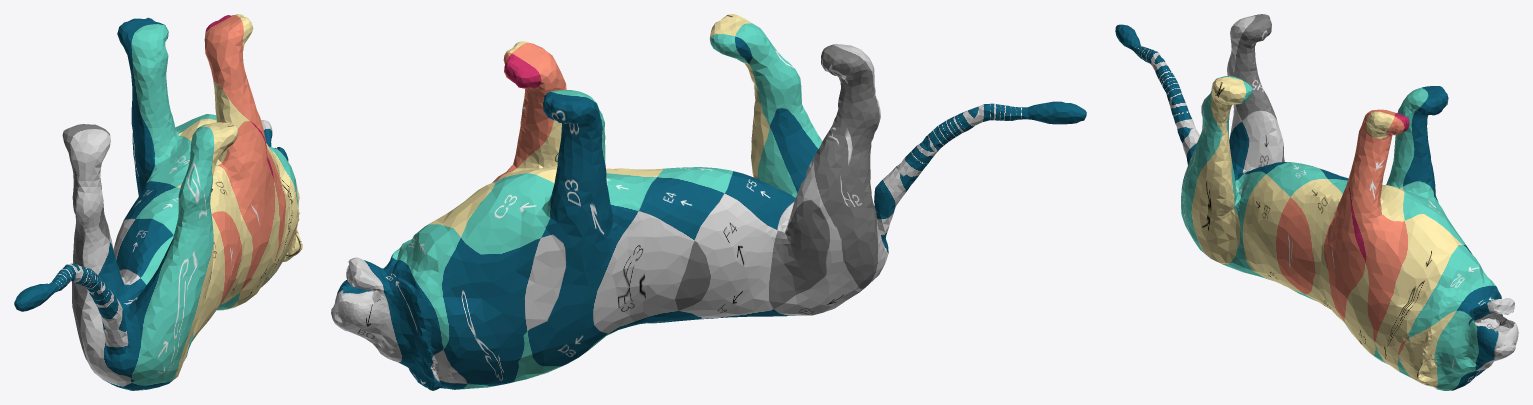
The model's file is cow_04-lion_05.obj.
3 renders of one model, left to right at view 1: azimuth 30°, elevation 25°; view 2: azimuth 150°, elevation 25°; view 3: azimuth 270°, elevation 25°, orthographic. The views are drawn at different scales.
Visible parts, largest first — view 1: cow_04-lion_05_export; view 2: cow_04-lion_05_export; view 3: cow_04-lion_05_export.
Boxes of the visible parts, x1,y1,x2,y2 form: cow_04-lion_05_export: (14,14,302,390); cow_04-lion_05_export: (331,14,1086,390); cow_04-lion_05_export: (1115,14,1518,390).
Bounding box in the file's own units: 0.9703 × 0.5734 × 0.8065.
